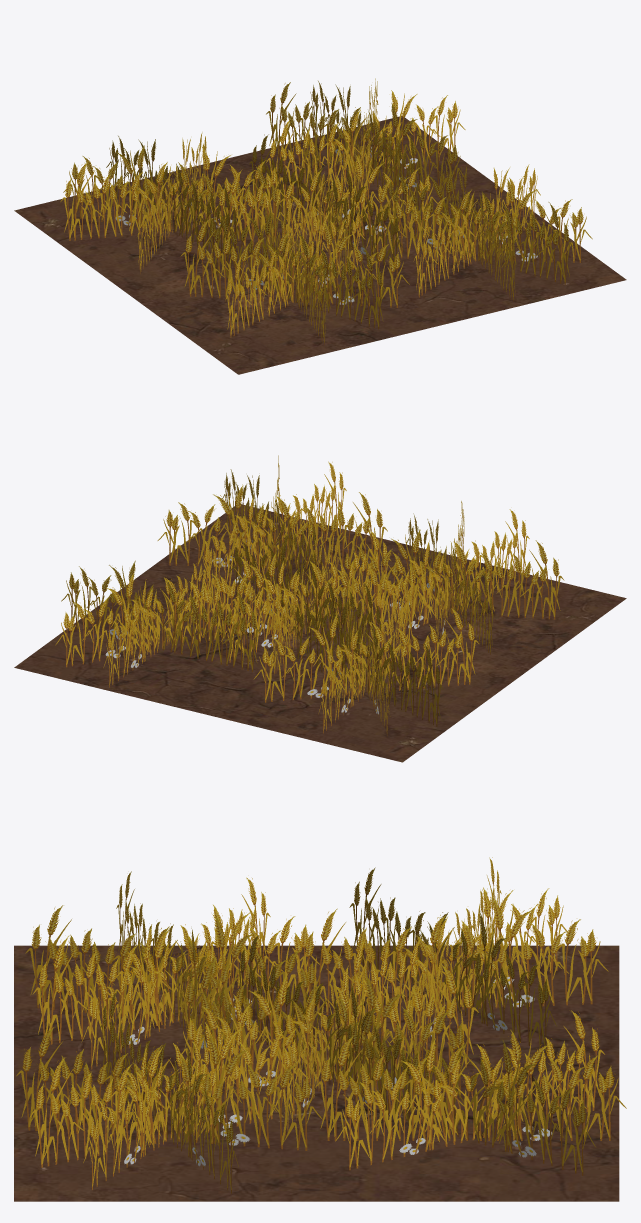
Rendered from FRM0110001.fbx.
3 renders of one model, top to bottom at view 1: azimuth 30°, elevation 25°; view 2: azimuth 150°, elevation 25°; view 3: azimuth 270°, elevation 25°, orthographic. The views are drawn at different scales.
Visible parts, largest first — view 1: smFRM0110001; view 2: smFRM0110001; view 3: smFRM0110001.
Boxes of the visible parts, x1,y1,x2,y2 form: smFRM0110001: [14, 78, 626, 374]; smFRM0110001: [14, 455, 626, 762]; smFRM0110001: [14, 857, 626, 1201].
Size of the model in its own units: 209 by 59.06 by 207.
1 material, 1 textured.
